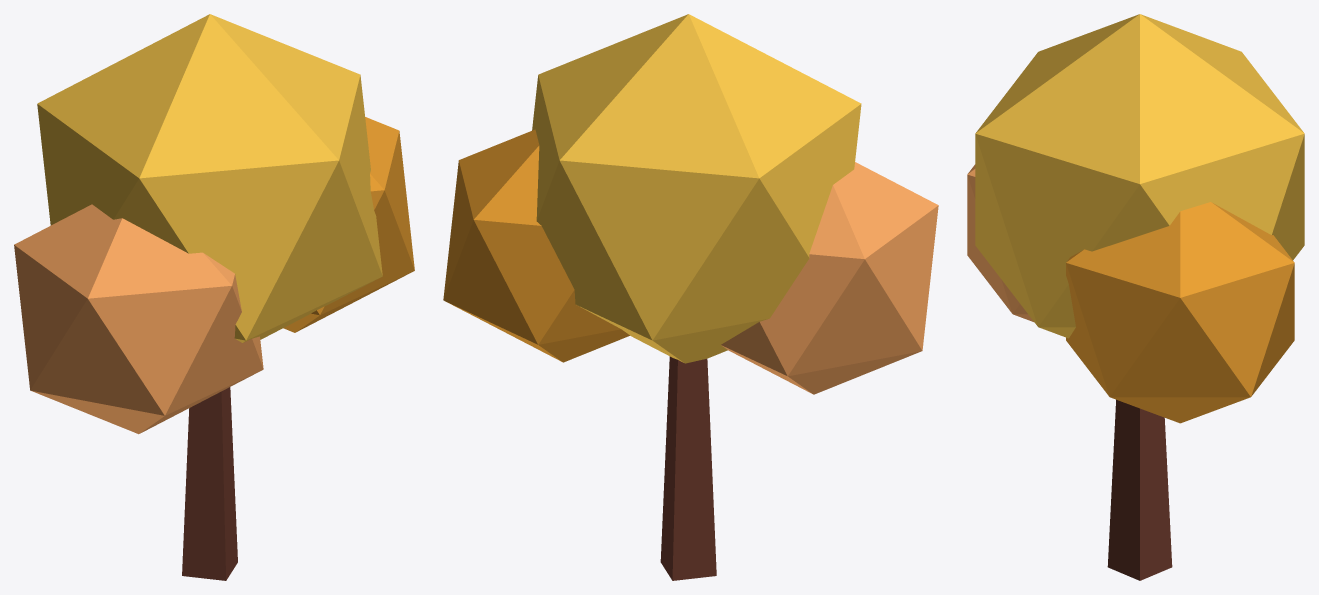
Rendered from P_TreeYellow.fbx.
The picture shows the model from 3 angles, left to right: view 1: azimuth 30°, elevation 25°; view 2: azimuth 150°, elevation 25°; view 3: azimuth 270°, elevation 25°; orthographic projection.
Visible parts, largest first — view 1: P_TreeYellow.008; view 2: P_TreeYellow.008; view 3: P_TreeYellow.008.
Boxes of the visible parts, x1,y1,x2,y2 form: P_TreeYellow.008: [14, 14, 414, 580]; P_TreeYellow.008: [443, 14, 938, 580]; P_TreeYellow.008: [967, 14, 1304, 580].
Size of the model in its own units: 1.78 by 2.27 by 1.25.
